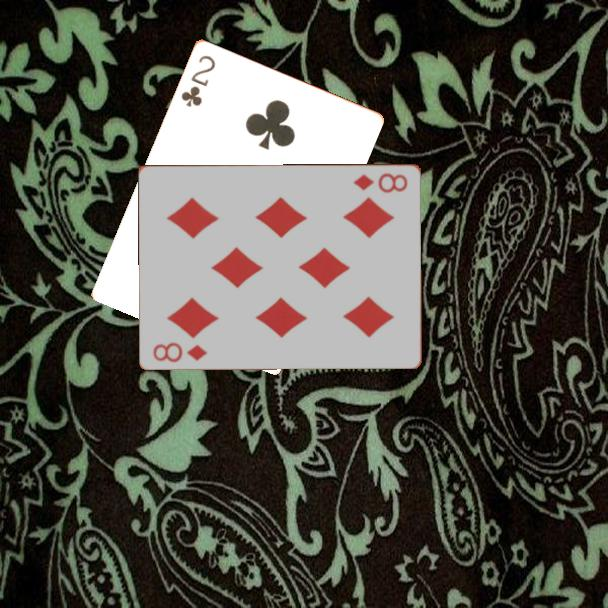c02: (177, 51, 218, 110)
d08: (350, 169, 411, 196), (150, 339, 211, 365)
